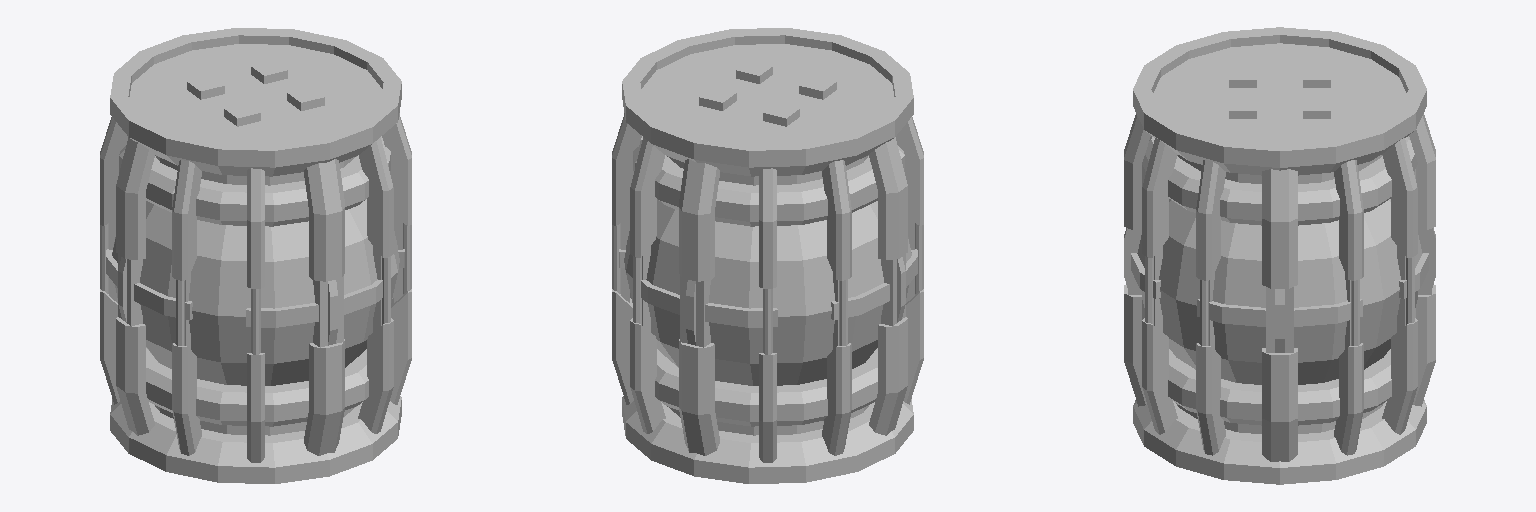
Rendered from orbus.obj.
3 views of the same model, side by side, from view 1: azimuth 30°, elevation 25°; view 2: azimuth 150°, elevation 25°; view 3: azimuth 270°, elevation 25° (orthographic).
Visible parts, largest first — view 1: Sphere; view 2: Sphere; view 3: Sphere.
Boxes of the visible parts, x1,y1,x2,y2 form: Sphere: [100, 28, 411, 483]; Sphere: [612, 28, 923, 483]; Sphere: [1124, 27, 1435, 484].
Bounding box in the file's own units: 4.25 × 5 × 4.25.